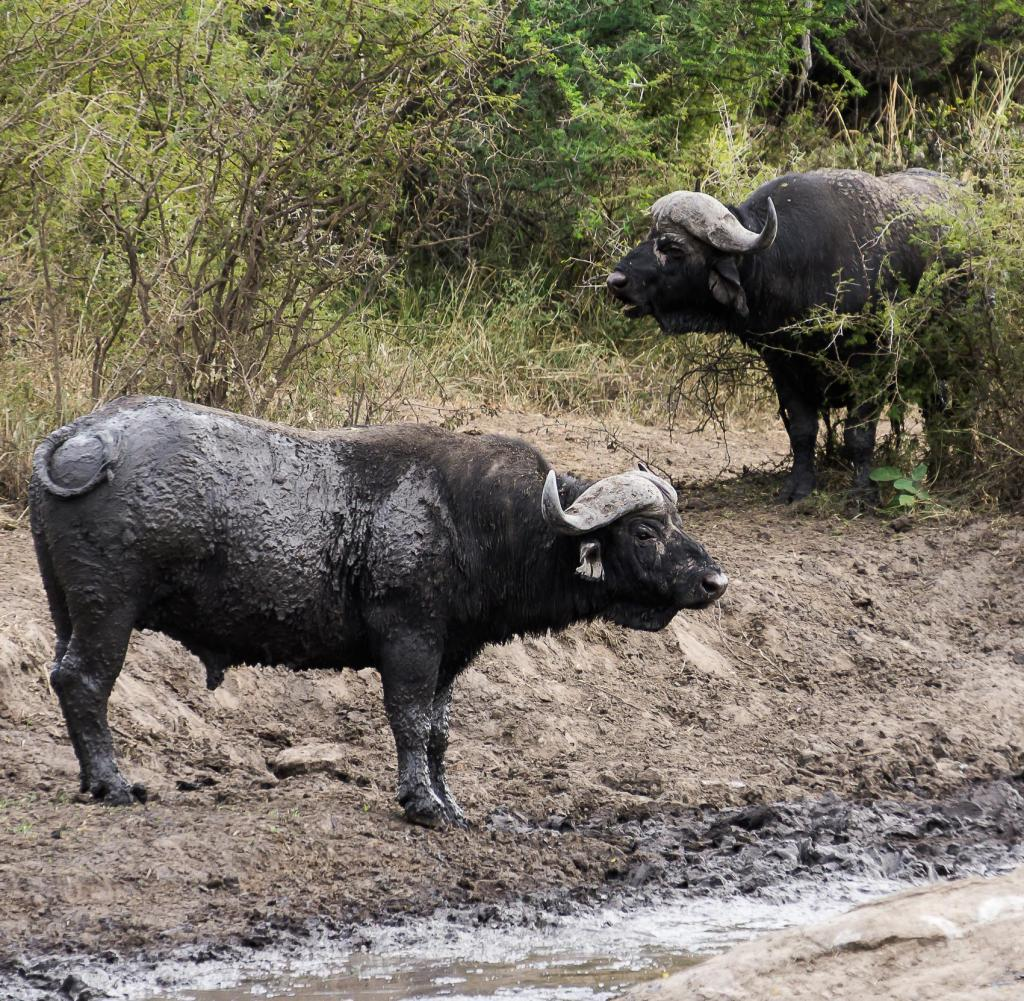Buffalo: (40, 256, 919, 859)
